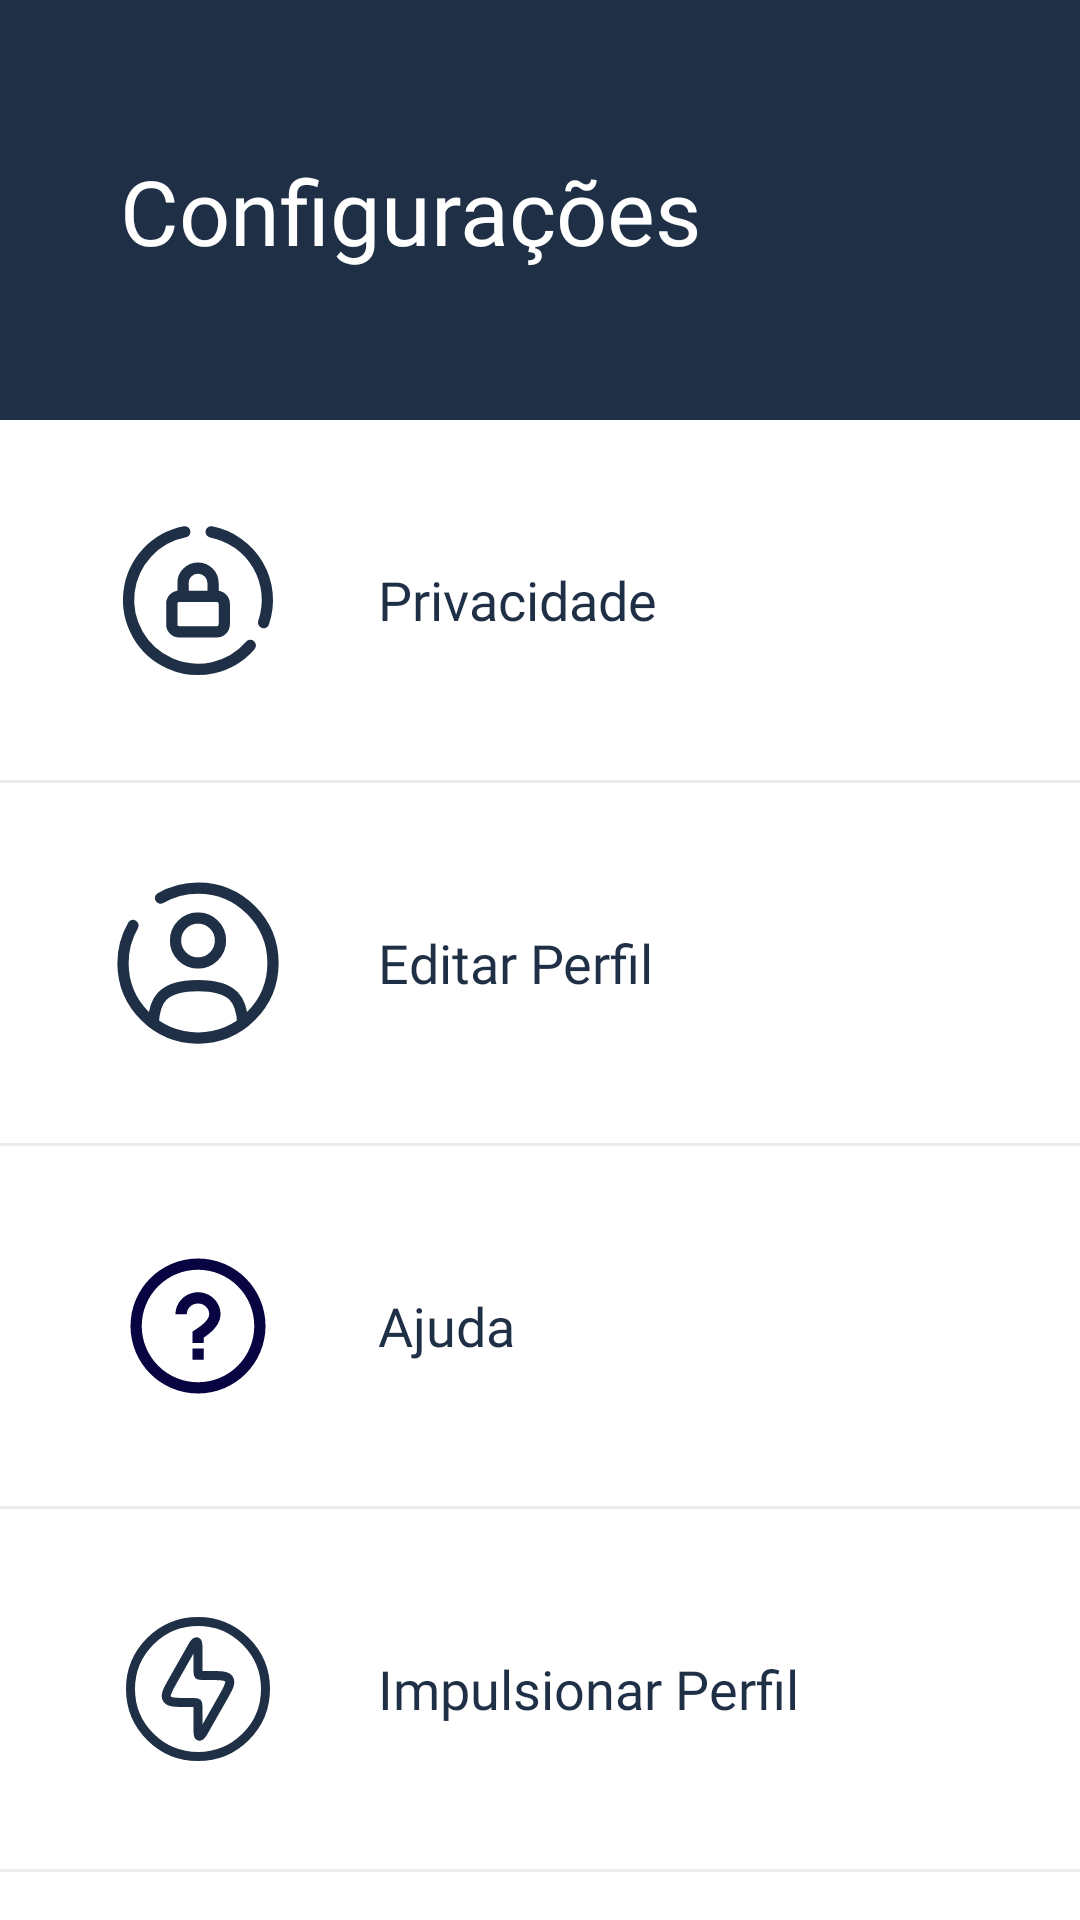

Named icons in this screenshot (1080x1920) and their bounding boxes, [left=x1, top=y1, right=x2, bottom=y2]:
help: [left=130, top=1258, right=266, bottom=1394]
privacy: [left=123, top=526, right=273, bottom=675]
raio: [left=126, top=1617, right=270, bottom=1761]
user: [left=117, top=882, right=279, bottom=1044]
